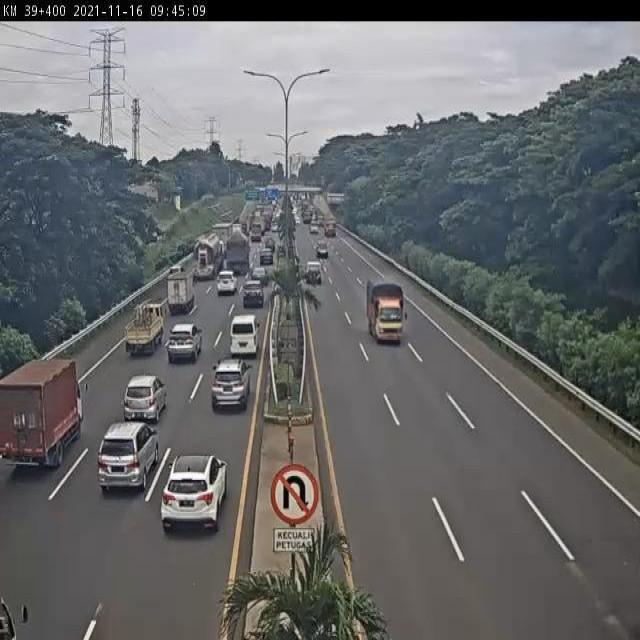car: (161, 456, 229, 531), (98, 420, 159, 488), (211, 358, 253, 410), (125, 376, 168, 417), (166, 327, 200, 362), (242, 281, 263, 307), (248, 264, 270, 288), (217, 268, 238, 293)
small bus: (231, 319, 258, 357)
small truck: (124, 304, 166, 355), (167, 273, 198, 316)
truck-l-: (225, 231, 252, 273)
truck-m-: (0, 360, 84, 467), (367, 278, 406, 346)
truck-xl-: (193, 234, 222, 278)
